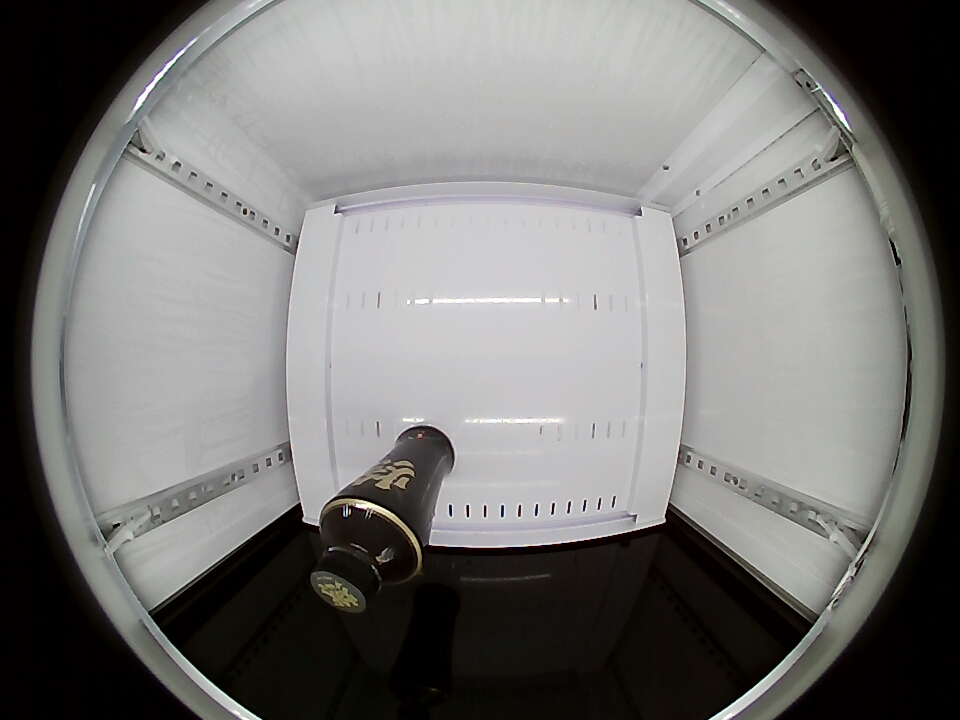rancha-1: (310, 497, 424, 612)
